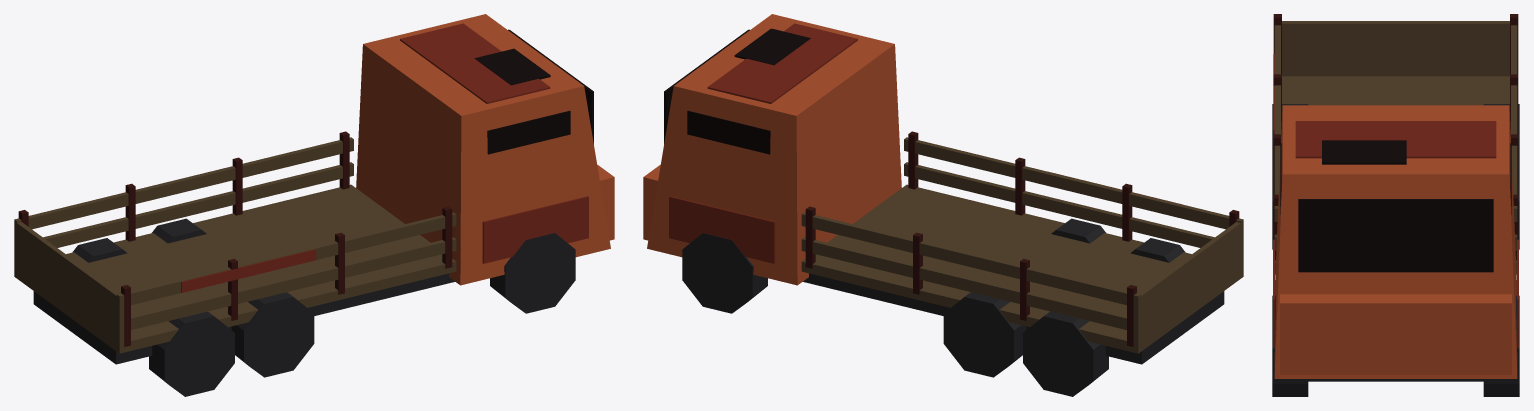
File: scablands_truck_wreck.glb
The picture shows the model from 3 angles, left to right: view 1: azimuth 30°, elevation 25°; view 2: azimuth 150°, elevation 25°; view 3: azimuth 270°, elevation 25°; orthographic projection. The views are drawn at different scales.
Parts seen in each view (by area): view 1: scablands_truck_wreck; view 2: scablands_truck_wreck; view 3: scablands_truck_wreck.
Part boxes in pixels (<box>): scablands_truck_wreck: <box>14,14,614,396</box>; scablands_truck_wreck: <box>643,14,1243,396</box>; scablands_truck_wreck: <box>1272,14,1519,396</box>.
Size of the model in its own units: 6.28 by 2.55 by 2.34.
